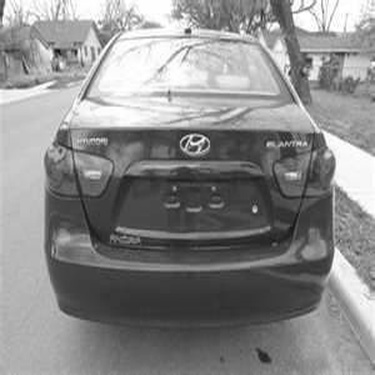car: (37, 14, 340, 333)
